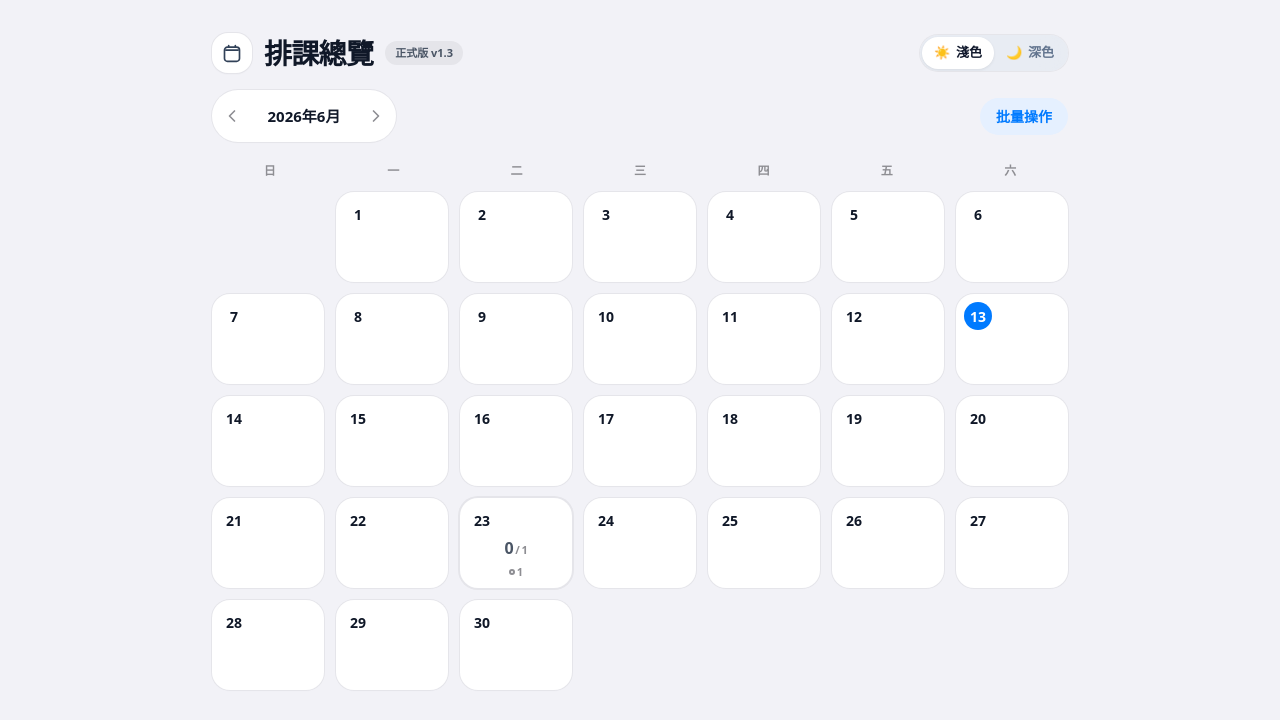
MonthPage backend session operations › updates attendance through backend PATCH when sessions backend is available
The image size is (1280, 720).
Click the text "23": point(482, 520) [474,510,490,530]
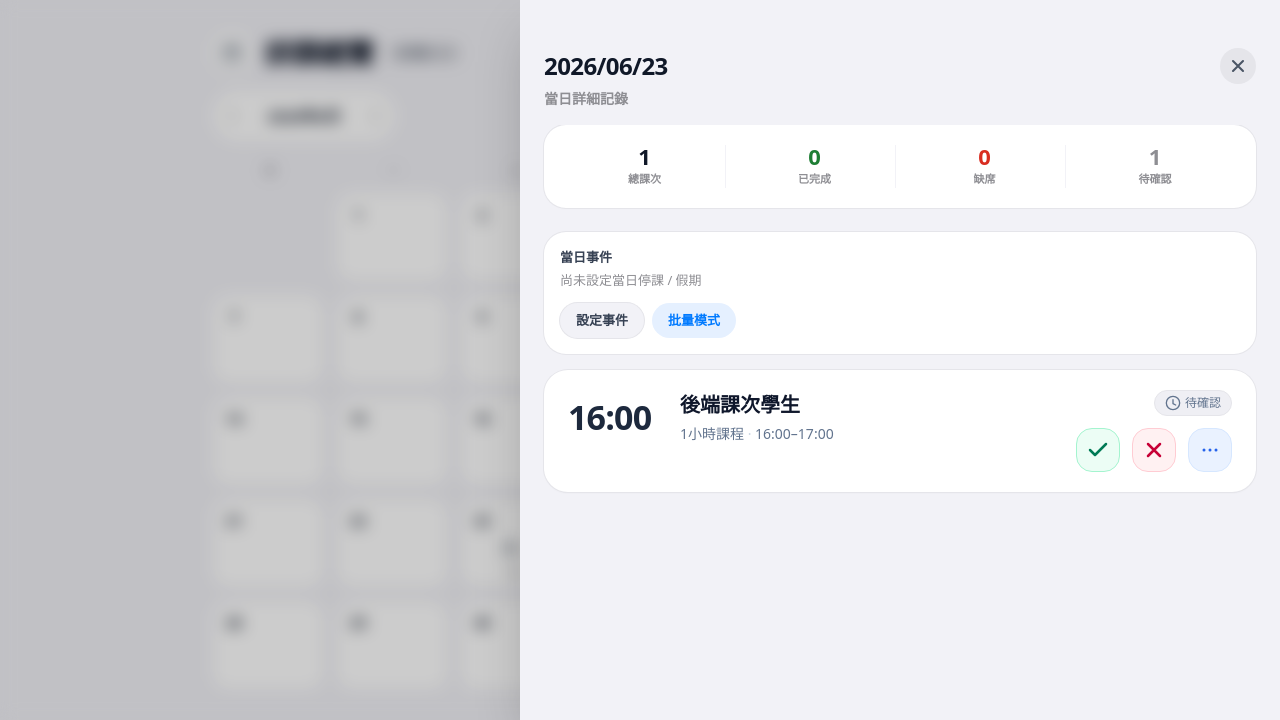
Click the button named "記錄已到": point(1098, 450) [1076,428,1120,472]
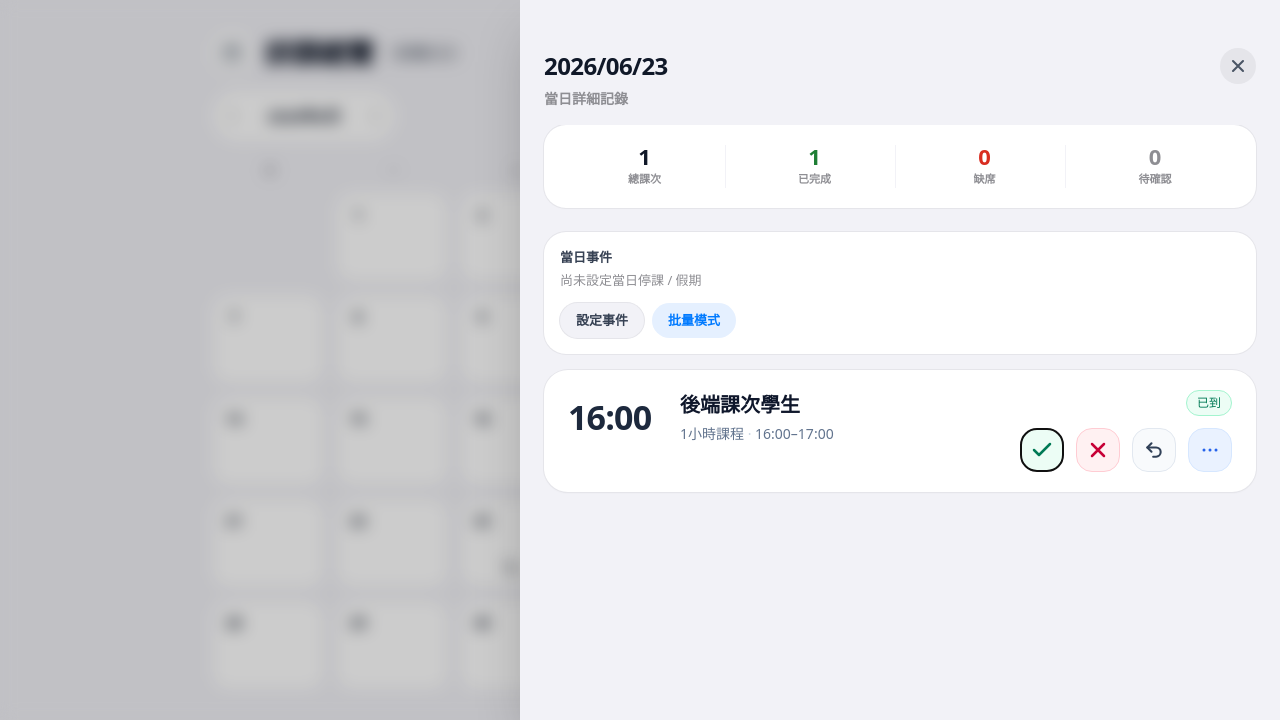
Expected: the text "已到" is shown, [1186,390,1232,416]
